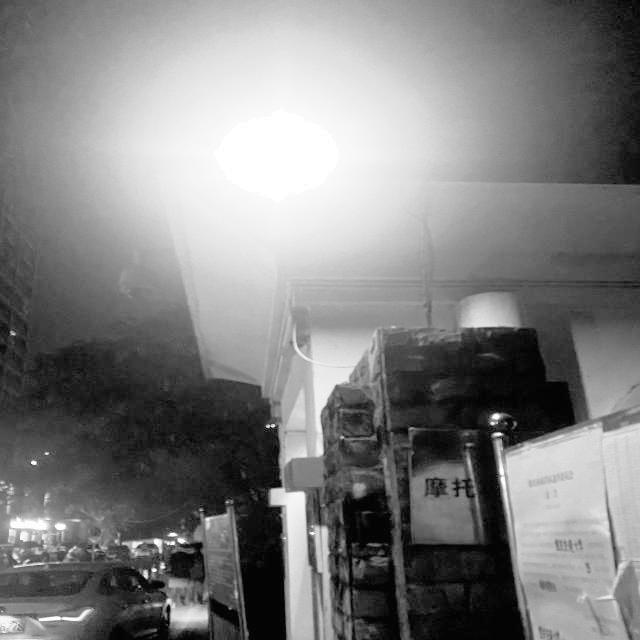Light: (209, 100, 358, 213)
